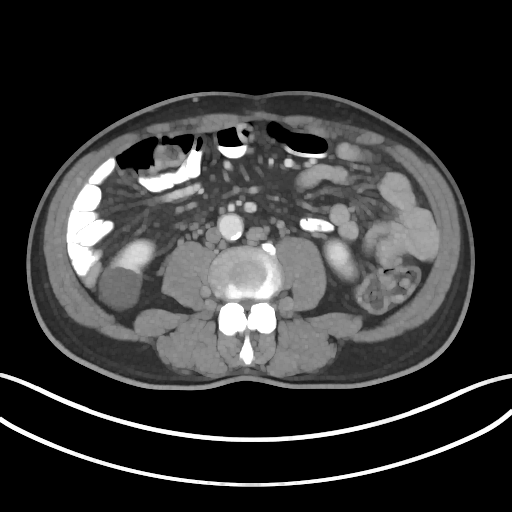Lesion: (94, 266, 143, 312)
